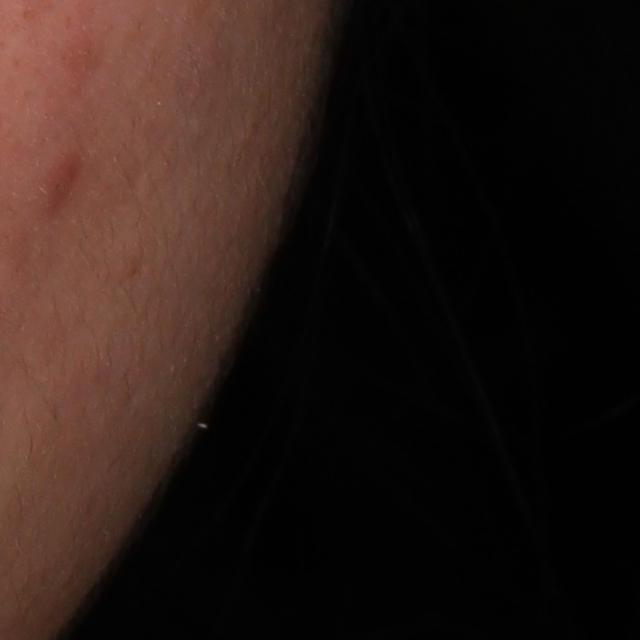papule: (41, 158, 80, 211)
